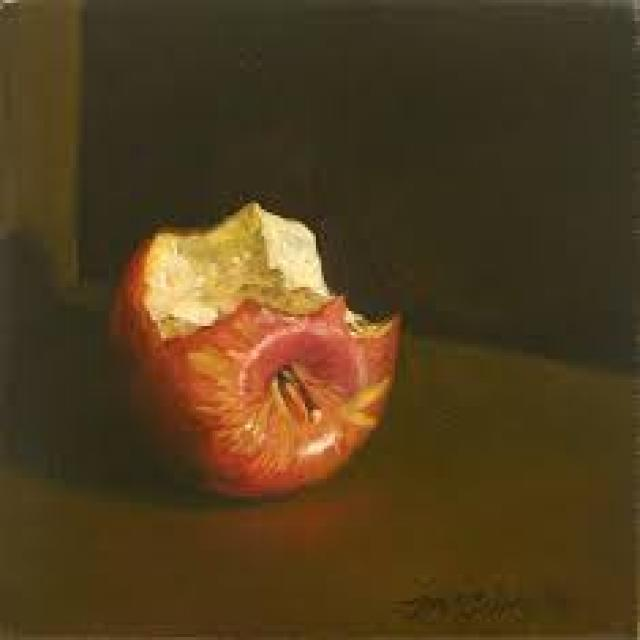Apple: (117, 204, 401, 488)
